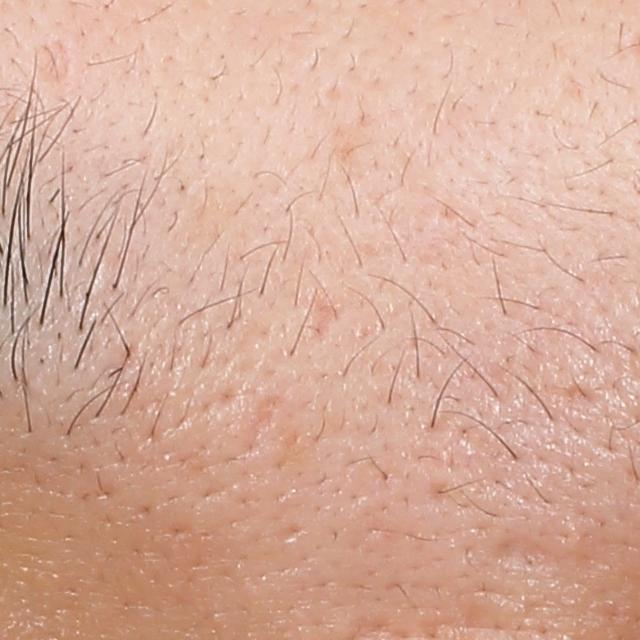atrophic_scar: (489, 530, 564, 574), (308, 288, 349, 352), (31, 34, 76, 88), (250, 385, 287, 447)
